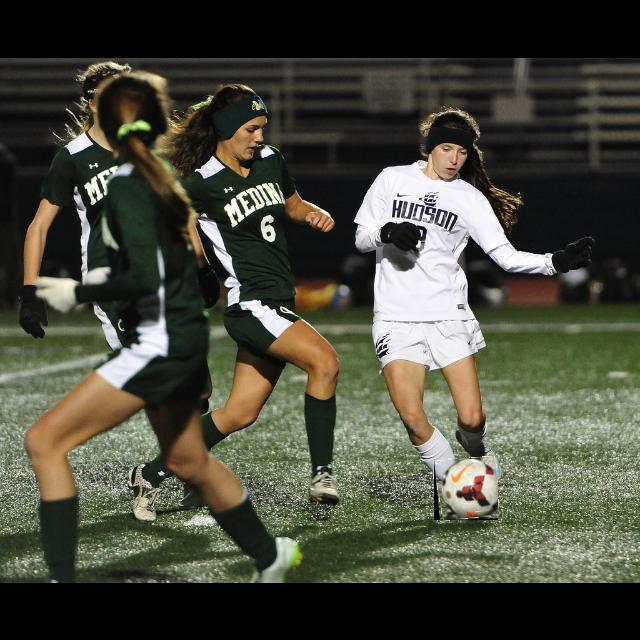Football: (434, 458, 498, 520)
